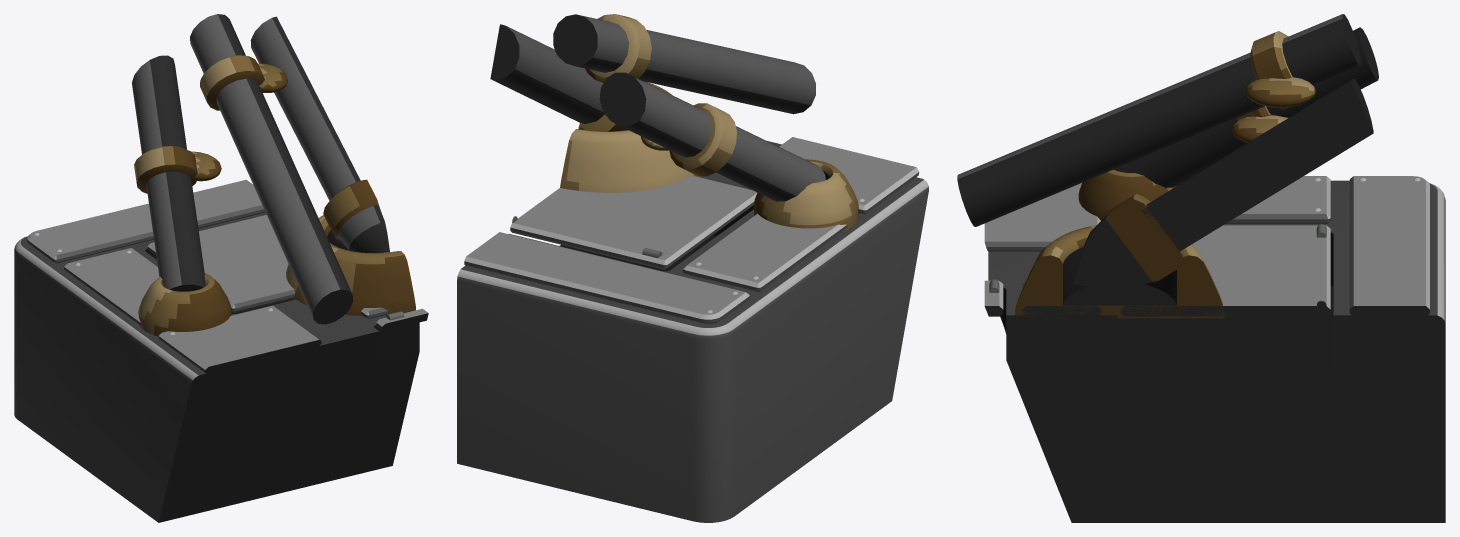
The model's file is asteroid_rig_tl_43.glb.
3 renders of one model, left to right at view 1: azimuth 30°, elevation 25°; view 2: azimuth 150°, elevation 25°; view 3: azimuth 270°, elevation 25°, orthographic. The views are drawn at different scales.
Visible parts, largest first — view 1: asteroid_rig_tl_43; view 2: asteroid_rig_tl_43; view 3: asteroid_rig_tl_43.
Boxes of the visible parts, <box> form: asteroid_rig_tl_43: <box>14,14,428,522</box>; asteroid_rig_tl_43: <box>457,14,928,522</box>; asteroid_rig_tl_43: <box>957,14,1445,522</box>.
Size of the model in its own units: 20 by 31.47 by 29.84.
